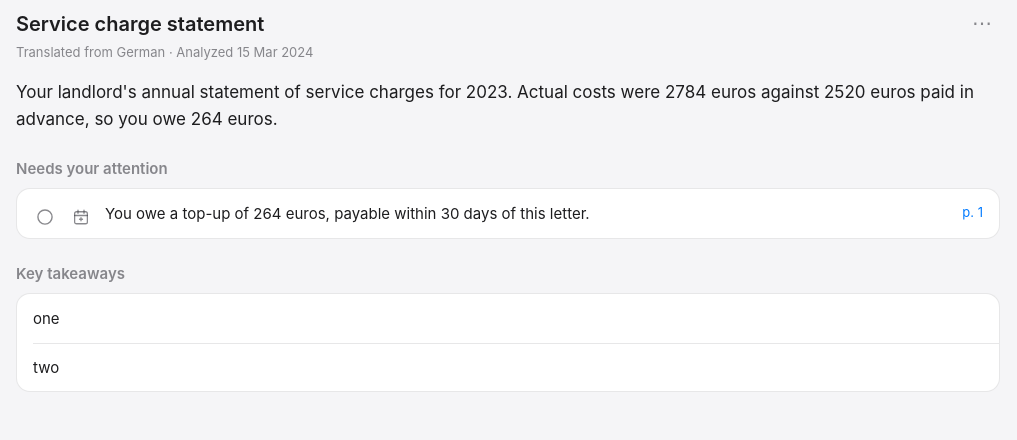
it: ExtractionPanel › collapses the previously selected row when another is selected
Click the button "one" at point(46, 319), box [17,294,999,343]
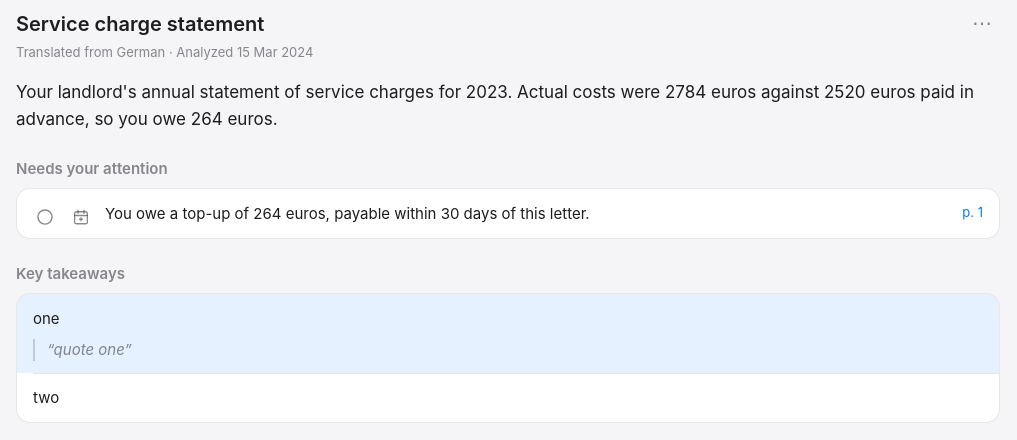
Check: the text "quote one" is shown, box [47,340,132,359]
Click the button "two" at point(46, 398), box [17,373,999,422]
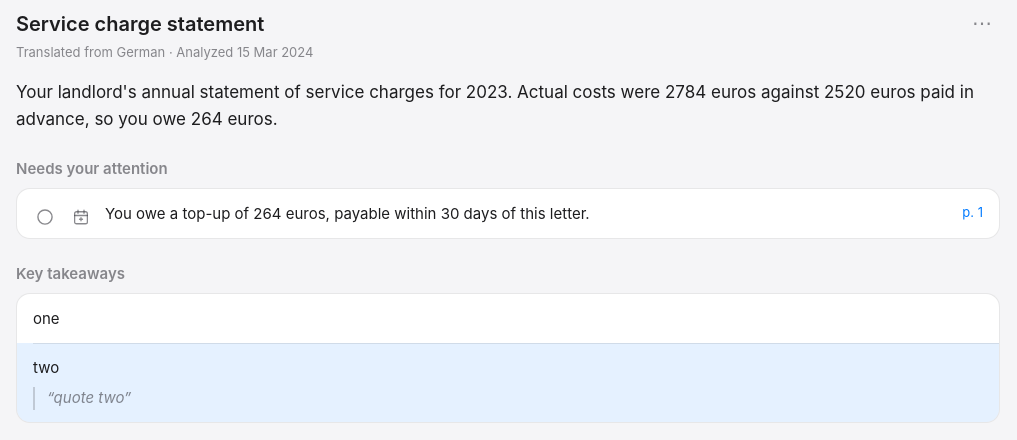
Check: the text "quote two" is shown, box [47,388,131,407]
Check: the text "quote one" is gone
